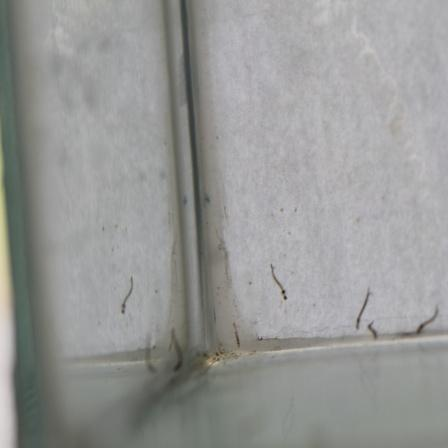Jentik-Nyamuk: (264, 261, 291, 304)
